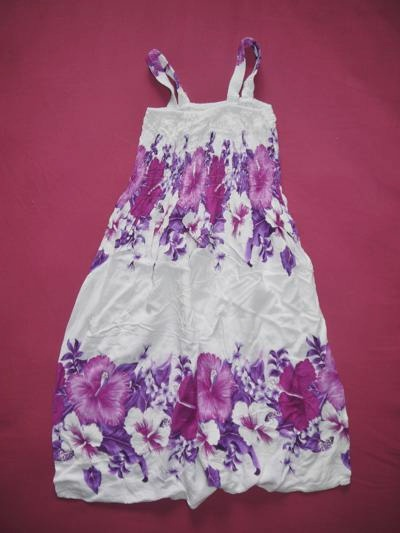Dress: (29, 46, 368, 512)
